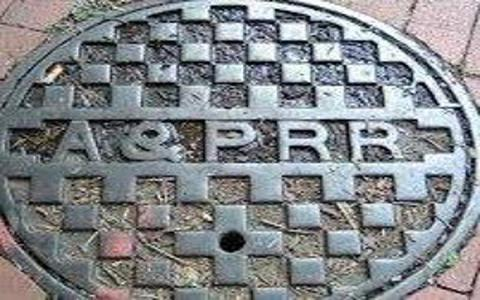proper manhole: (1, 1, 478, 296)
